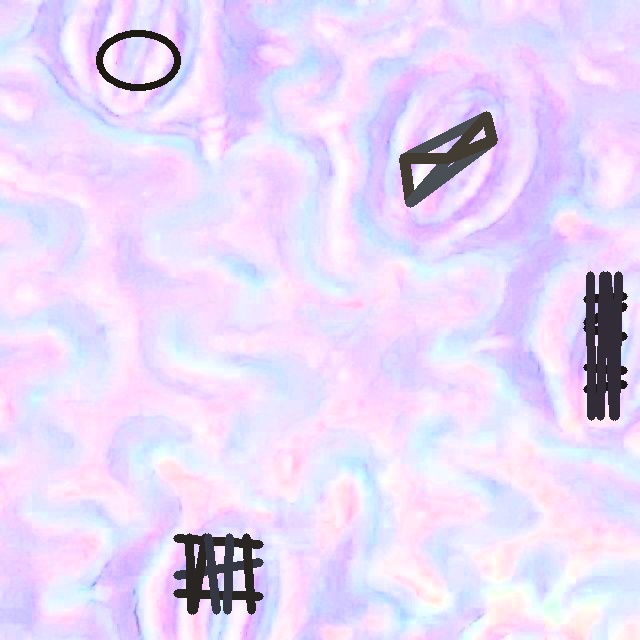open: (399, 111, 496, 206), (173, 533, 263, 614), (583, 271, 627, 420), (96, 29, 180, 92)
